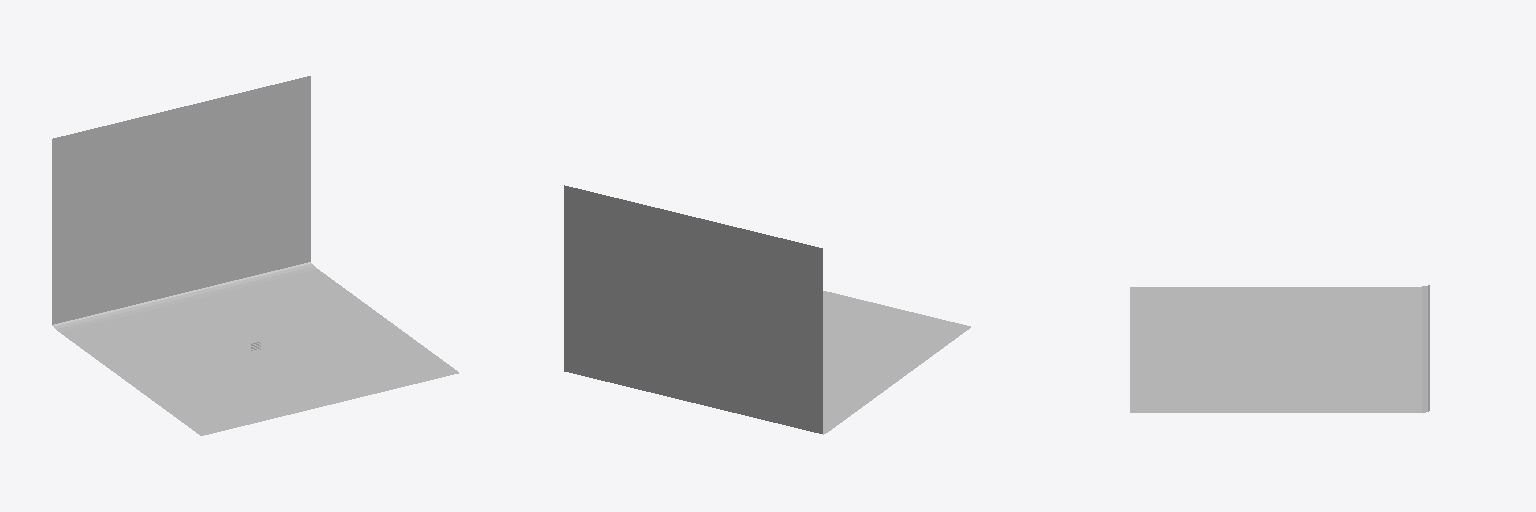
Rendered from INDUSTRIAL SHELVES.obj.
3 views of the same model, side by side, from view 1: azimuth 30°, elevation 25°; view 2: azimuth 150°, elevation 25°; view 3: azimuth 270°, elevation 25° (orthographic).
Parts seen in each view (by area): view 1: Plane_Plane.333; view 2: Plane_Plane.333; view 3: Plane_Plane.333.
Part boxes in pixels (left/top/right/bottom): Plane_Plane.333: left=52, top=76, right=458, bottom=435; Plane_Plane.333: left=564, top=185, right=970, bottom=434; Plane_Plane.333: left=1130, top=285, right=1429, bottom=412.
Bounding box in the file's own units: 77.03 × 53.44 × 77.03.